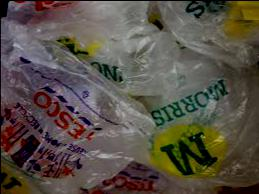Plastic: (1, 39, 155, 193)
